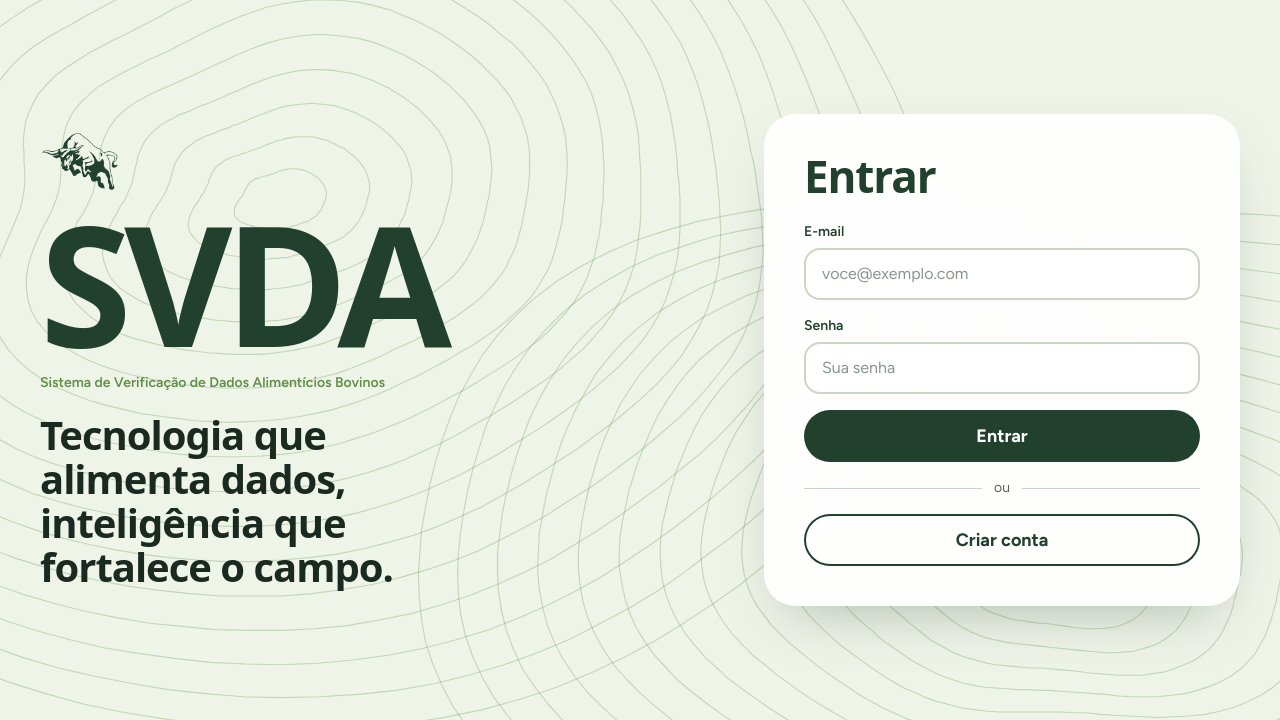
it: login › signs in and opens the conversations
In the field labelled "E-mail": point(1002, 274) [804,248,1200,300], type " ana@example.com "
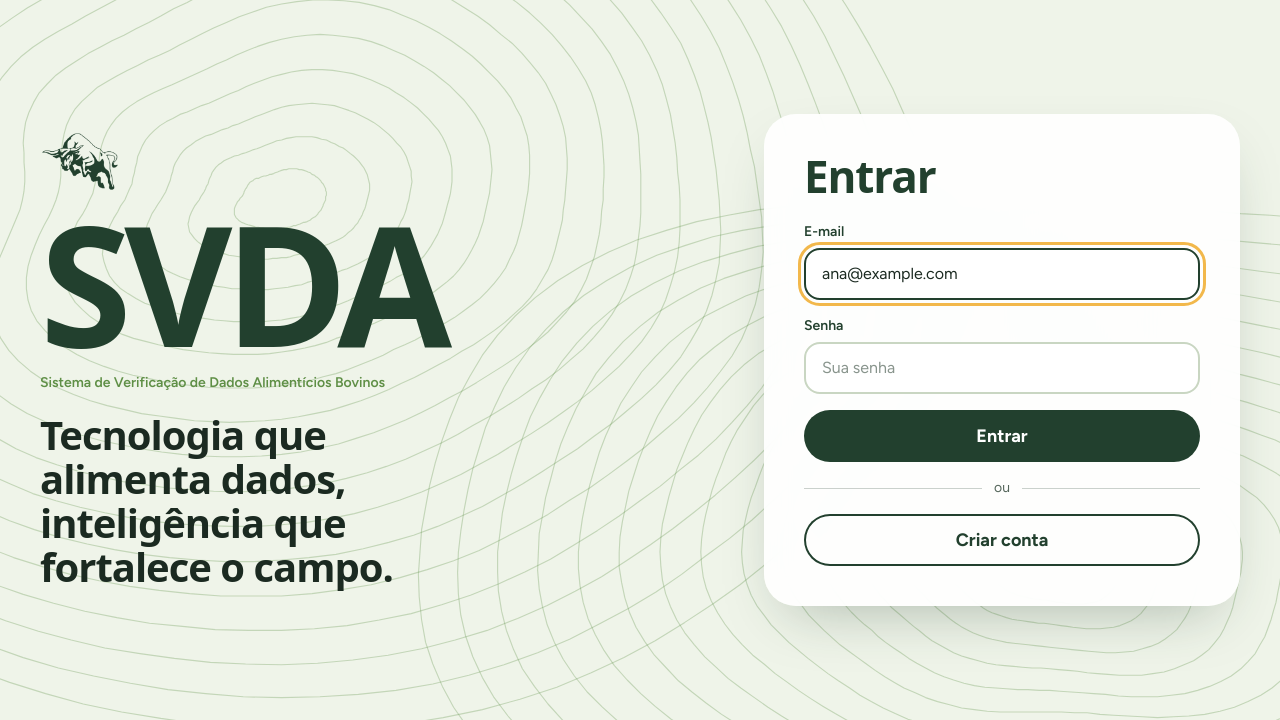
In the password field labelled "Senha": point(1002, 368) [804,342,1200,394], type "senha-segura-1"
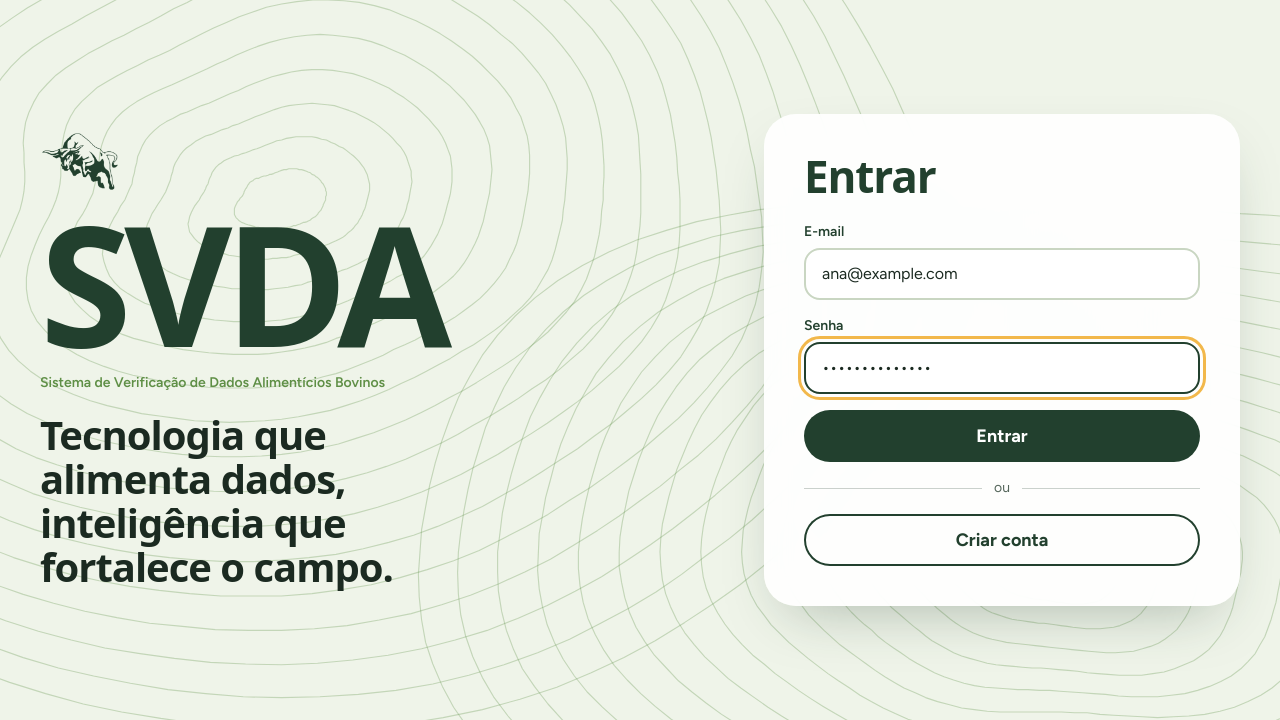
Click the button "Entrar": point(1002, 436) [804,410,1200,462]
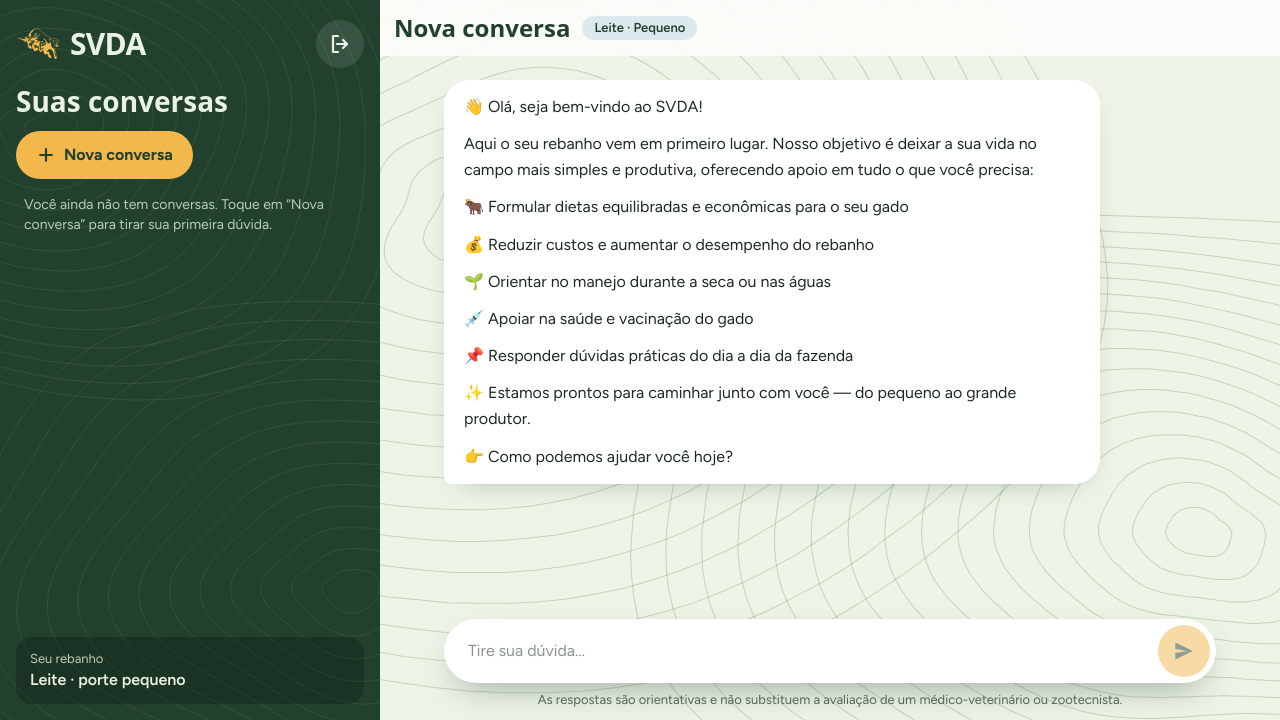
Result: the heading "Suas conversas" is shown at [16,84,228,119]
